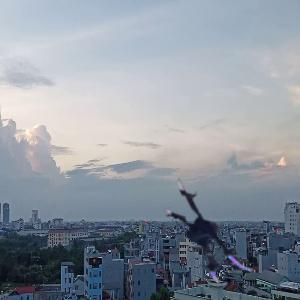drone: (157, 171, 275, 289)
